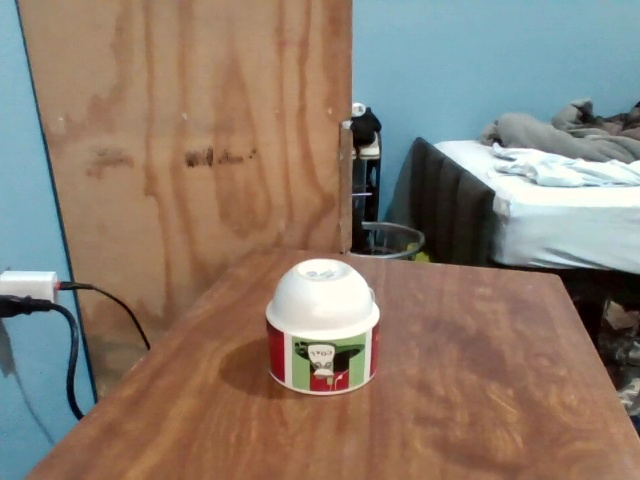taza: (265, 257, 380, 394)
